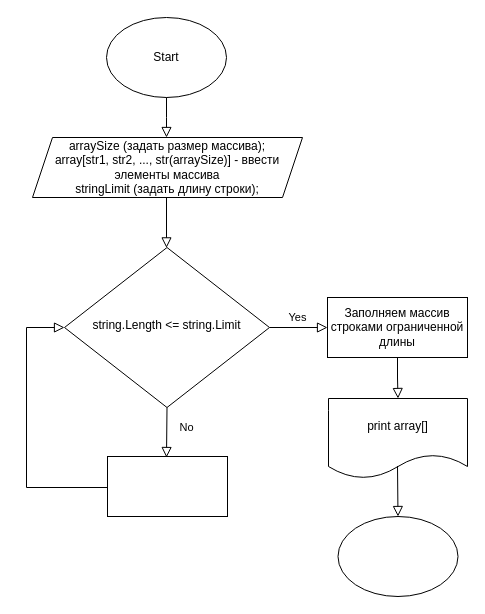
Some shapes in this 485 by 614 pixel diagram are drawn without their labels. The shapes that lost their labels are listed below. From the top down, each one's centre as x and y in pixels, then its label:
At pixel 167 486: "Вывод пустой строки".
At pixel 397 556: "Finish".
